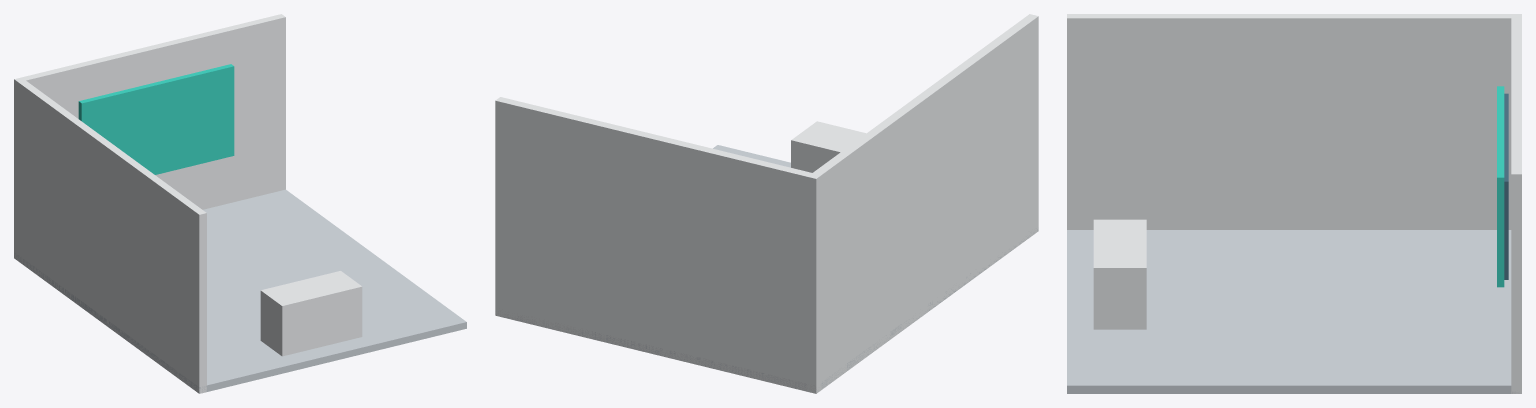
3 views of the same model, side by side, from view 1: azimuth 30°, elevation 25°; view 2: azimuth 150°, elevation 25°; view 3: azimuth 270°, elevation 25° (orthographic). The views are drawn at different scales.
Visible parts, largest first — view 1: Exhibition Booth Concept; view 2: Exhibition Booth Concept; view 3: Exhibition Booth Concept.
Boxes of the visible parts, bbox=[...] form: Exhibition Booth Concept: bbox=[14, 14, 466, 393]; Exhibition Booth Concept: bbox=[495, 14, 1038, 393]; Exhibition Booth Concept: bbox=[1067, 14, 1521, 393].
Bounding box in the file's own units: 5 × 3.2 × 6.
